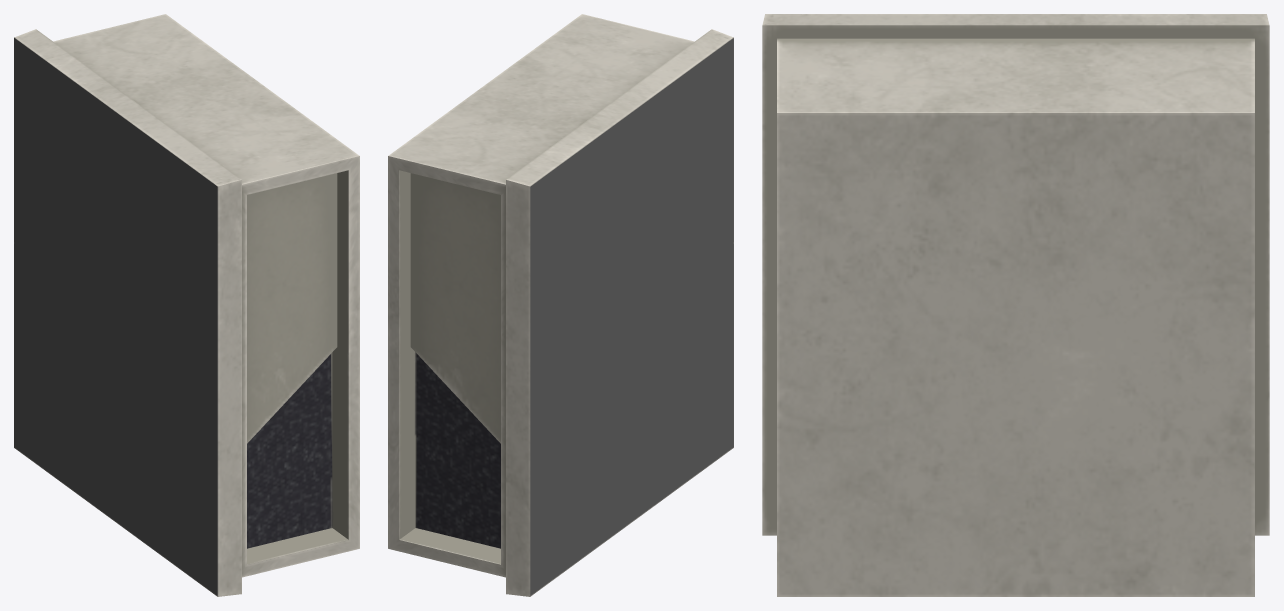
The model's file is SM_BathRoomSinkBox.fbx.
3 views of the same model, side by side, from view 1: azimuth 30°, elevation 25°; view 2: azimuth 150°, elevation 25°; view 3: azimuth 270°, elevation 25° (orthographic). The views are drawn at different scales.
Visible parts, largest first — view 1: SM_BathRoomSinkBox_LOD0; view 2: SM_BathRoomSinkBox_LOD0; view 3: SM_BathRoomSinkBox_LOD0.
Part boxes in pixels (left/top/right/bottom): SM_BathRoomSinkBox_LOD0: left=14, top=14, right=359, bottom=596; SM_BathRoomSinkBox_LOD0: left=388, top=14, right=733, bottom=596; SM_BathRoomSinkBox_LOD0: left=762, top=14, right=1269, bottom=596.
Size of the model in its own units: 30.23 by 81.5 by 73.39.
1 material, 1 textured.
